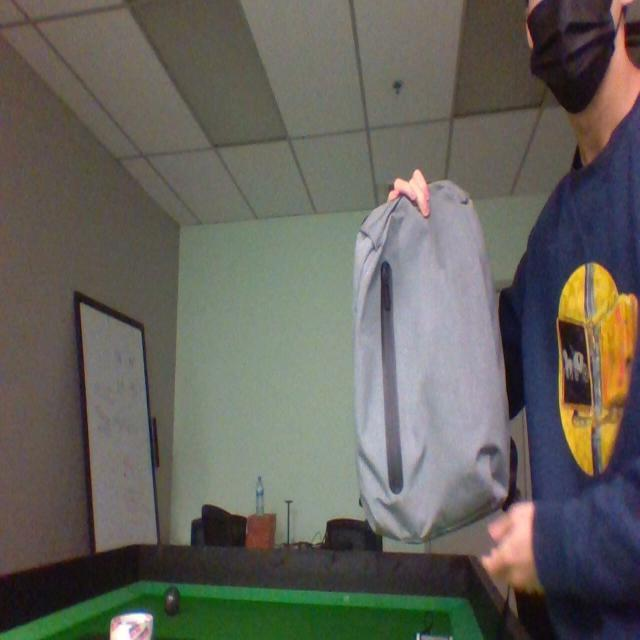Backpacks: (347, 180, 517, 540)
